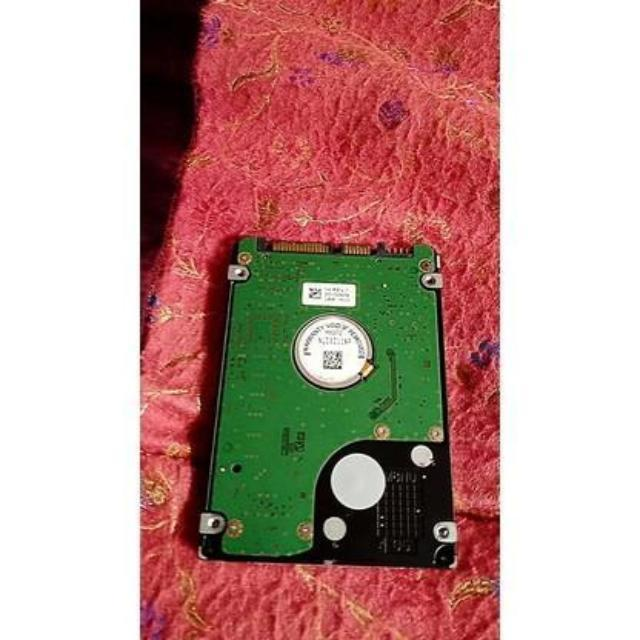DISK: (187, 228, 459, 572)
